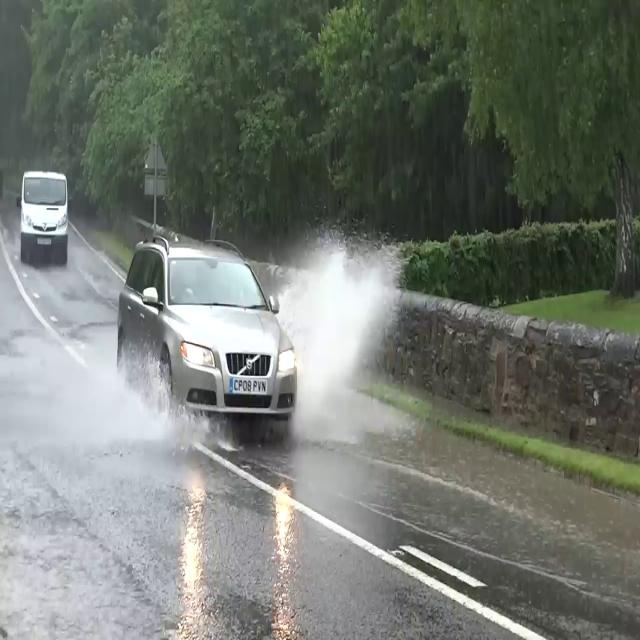license-plate-annotation: (228, 374, 272, 396)
